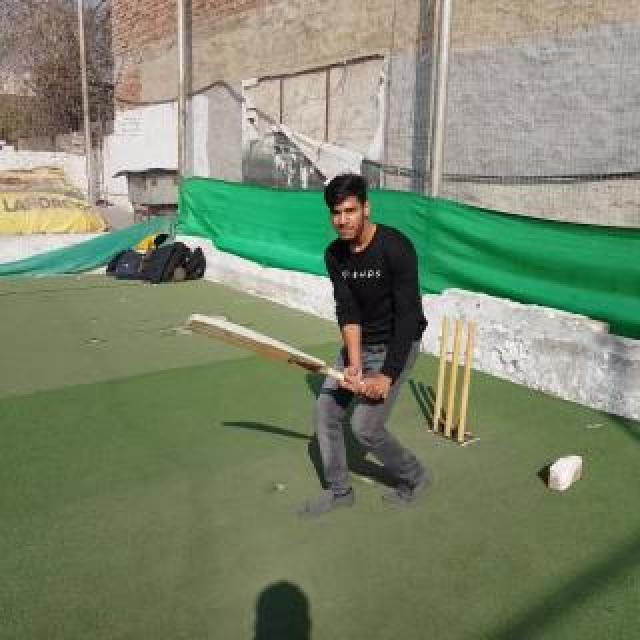bat: (185, 314, 387, 400)
